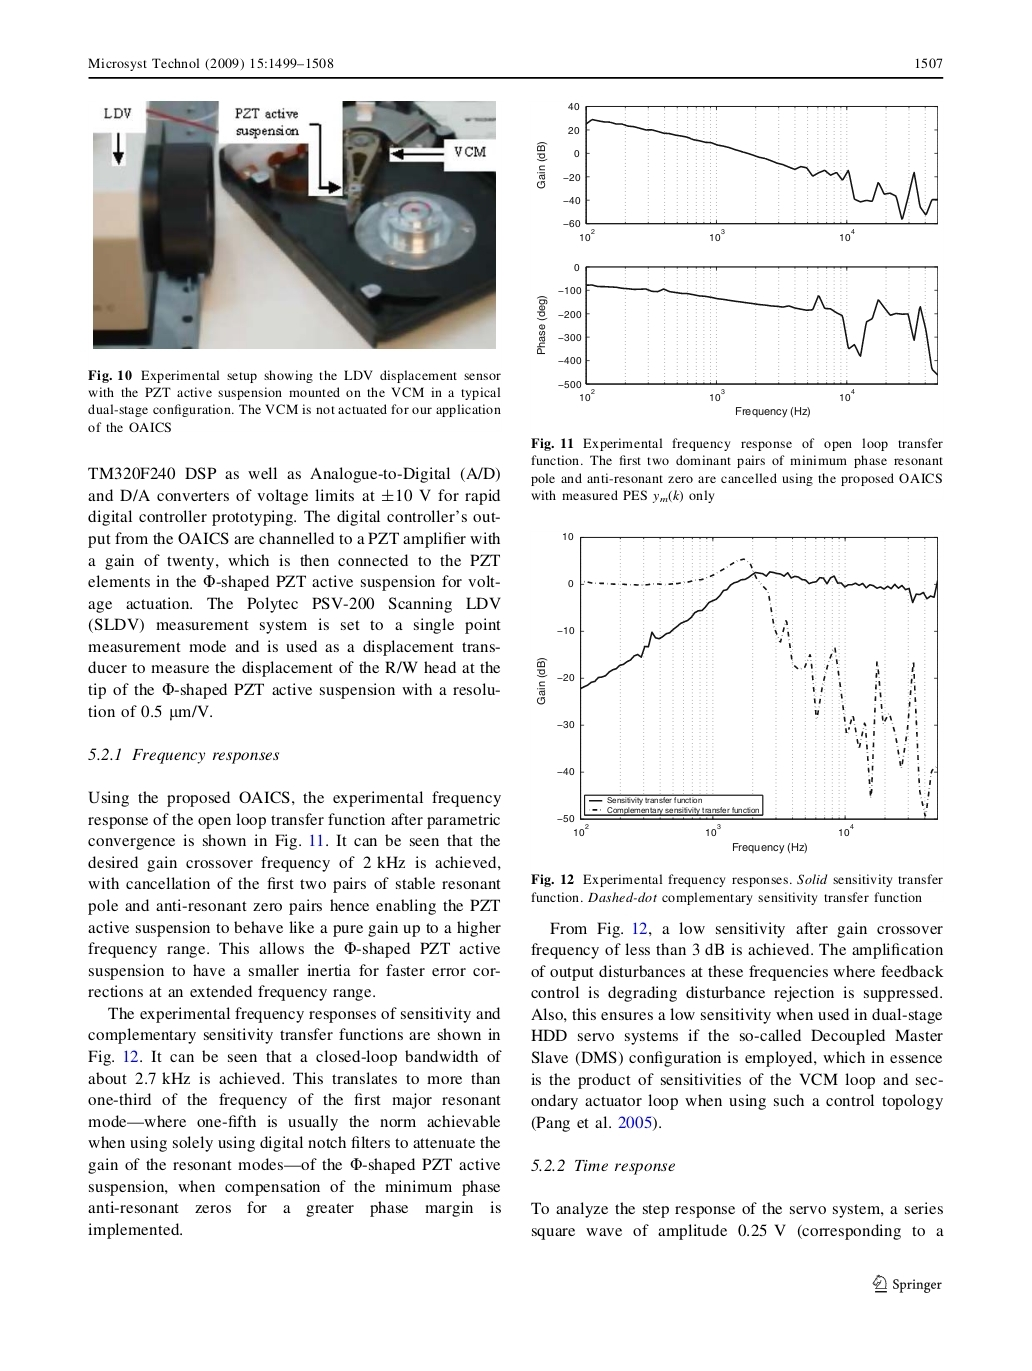figure: (536, 531, 937, 837), (93, 100, 495, 349), (536, 102, 937, 242), (537, 263, 937, 402)
